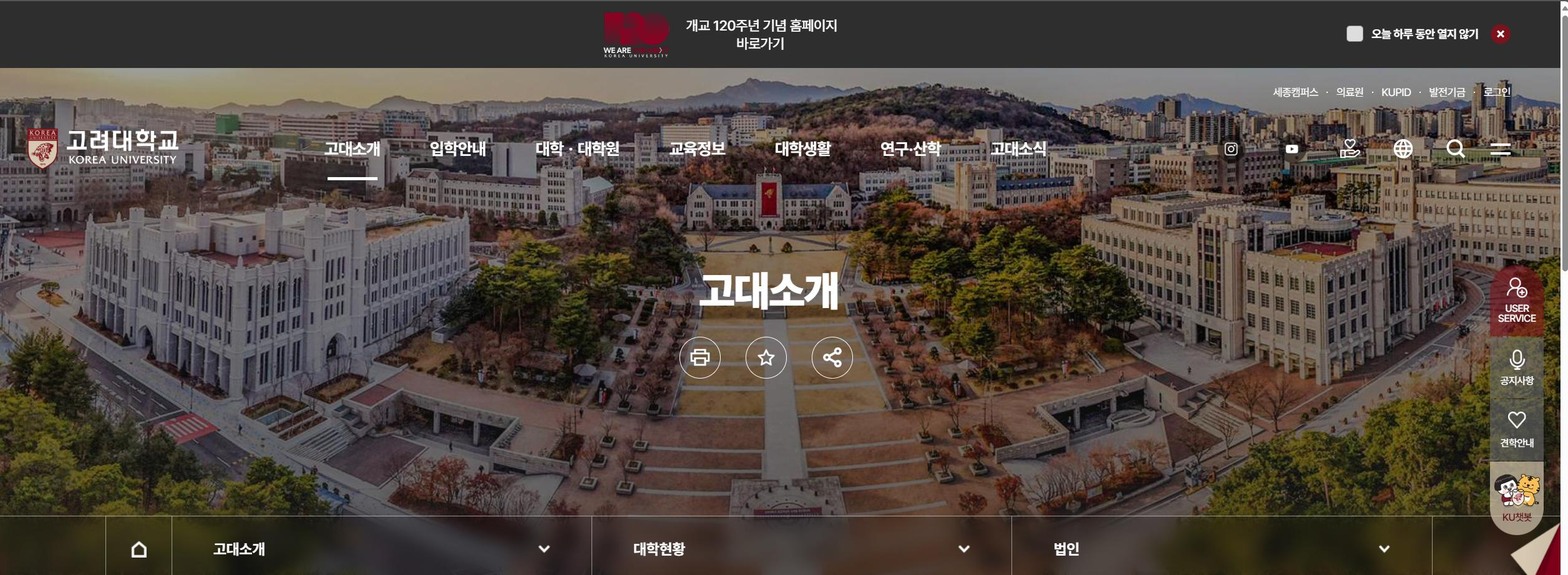button: (524, 121, 636, 176), (306, 123, 398, 189), (660, 125, 747, 181), (422, 119, 505, 174), (765, 117, 843, 174), (875, 122, 956, 175), (1491, 460, 1546, 537), (1492, 263, 1545, 336), (986, 126, 1063, 172), (107, 518, 169, 575), (1491, 342, 1544, 401), (677, 331, 726, 386), (742, 329, 790, 385), (809, 330, 856, 382), (1491, 408, 1541, 455), (1265, 81, 1320, 103), (1388, 132, 1422, 166), (1334, 132, 1367, 164), (1483, 134, 1517, 163), (1216, 133, 1248, 163), (1440, 134, 1473, 163), (1427, 81, 1467, 102), (1279, 132, 1307, 162), (1377, 80, 1413, 103), (1329, 82, 1366, 103), (1481, 83, 1515, 99), (1490, 21, 1511, 46)
checkbox: (601, 514, 1004, 575), (1019, 517, 1426, 575), (179, 519, 587, 575), (1338, 15, 1486, 51)
popup: (3, 1, 1558, 68)
